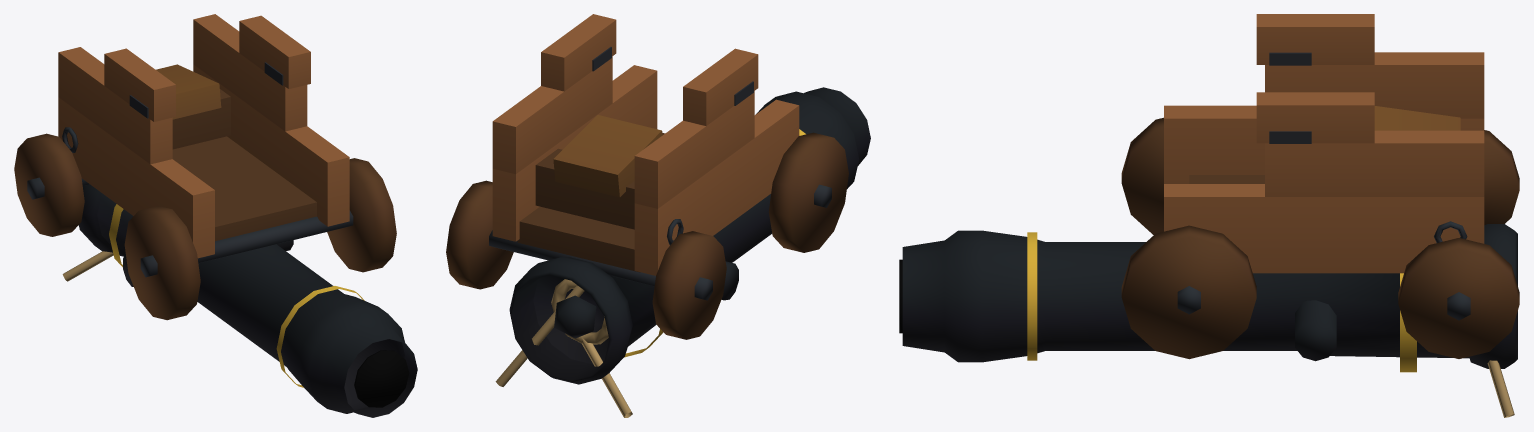
File: battery_low.glb
3 views of the same model, side by side, from view 1: azimuth 30°, elevation 25°; view 2: azimuth 150°, elevation 25°; view 3: azimuth 270°, elevation 25° (orthographic). The views are drawn at different scales.
Visible parts, largest first — view 1: gun_carriage, gun_barrel; view 2: gun_carriage, gun_barrel; view 3: gun_carriage, gun_barrel.
Boxes of the visible parts, x1,y1,x2,y2 form: gun_carriage: (14, 14, 396, 320); gun_barrel: (62, 184, 417, 417); gun_carriage: (446, 14, 848, 339); gun_barrel: (495, 87, 870, 417); gun_carriage: (1121, 14, 1519, 359); gun_barrel: (899, 224, 1517, 417).
Size of what is drawn, in the model's own units: 1.88 by 2.13 by 3.68.
